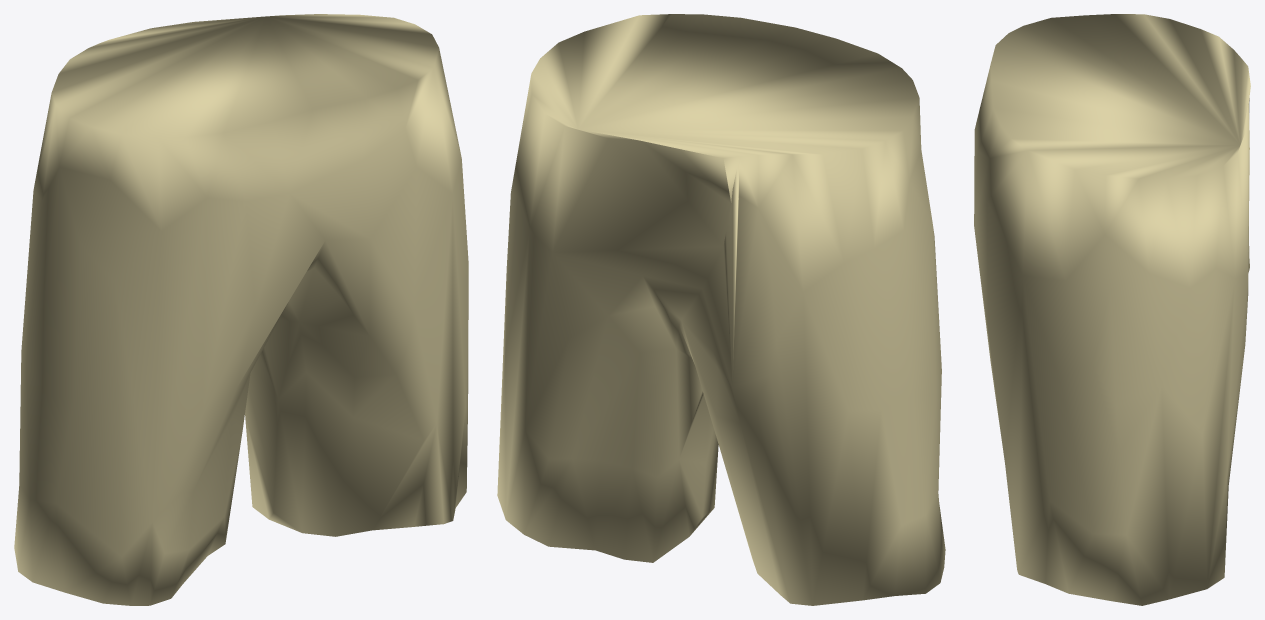
The model's file is cadera.obj.
3 views of the same model, side by side, from view 1: azimuth 30°, elevation 25°; view 2: azimuth 150°, elevation 25°; view 3: azimuth 270°, elevation 25° (orthographic). The views are drawn at different scales.
Parts seen in each view (by area): view 1: model.030; view 2: model.030; view 3: model.030.
Boxes of the visible parts, x1,y1,x2,y2 form: model.030: (14,14,468,605); model.030: (497,14,945,605); model.030: (974,14,1250,605).
Size of the model in its own units: 0.1238 by 0.1313 by 0.0738.
